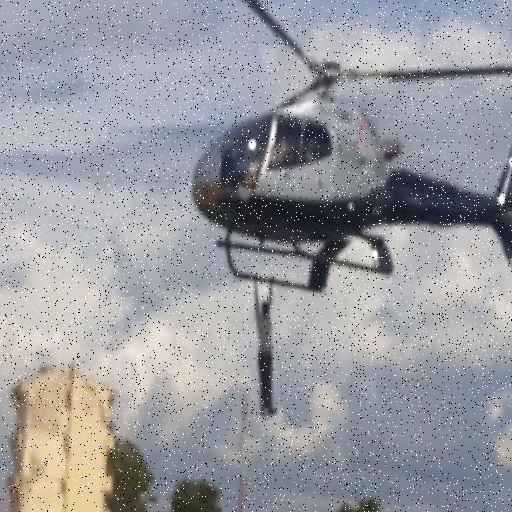helicopter: (186, 1, 512, 296)
